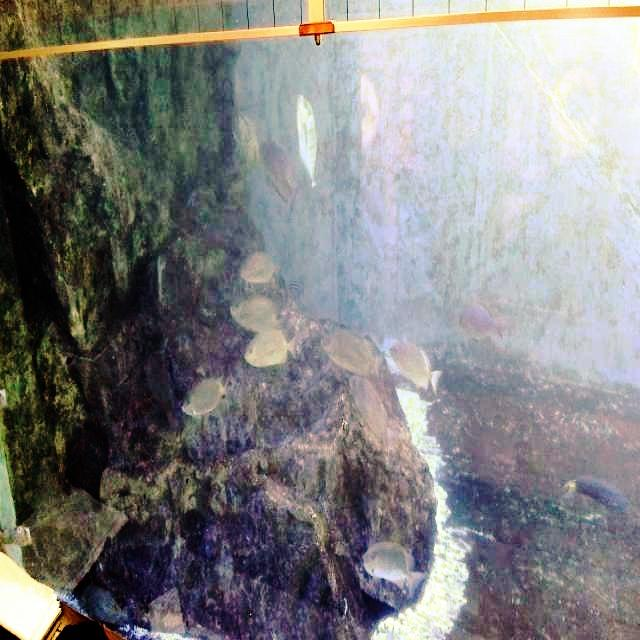gold snapper: (354, 528, 432, 616), (384, 324, 450, 412), (309, 313, 386, 383), (346, 366, 400, 462), (238, 321, 301, 383), (292, 83, 326, 191), (176, 368, 230, 431), (232, 239, 282, 299), (226, 286, 282, 338)
other black fish: (550, 456, 636, 536), (254, 133, 303, 225)
